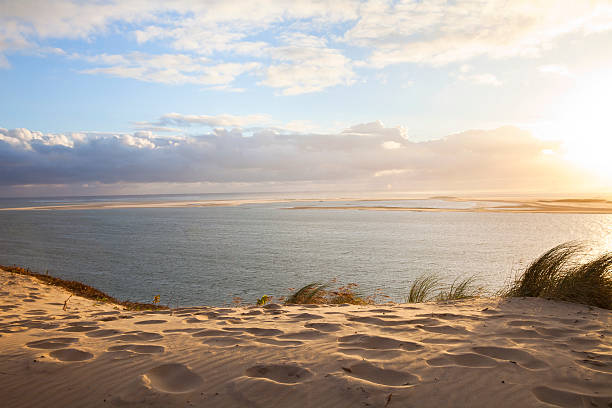human_footprint: (342, 361, 419, 386), (142, 363, 203, 392), (472, 346, 548, 369), (532, 386, 611, 407), (338, 334, 423, 350), (245, 364, 312, 383), (426, 353, 497, 367), (26, 337, 78, 348), (49, 348, 93, 361), (107, 344, 164, 353), (112, 331, 162, 341)
